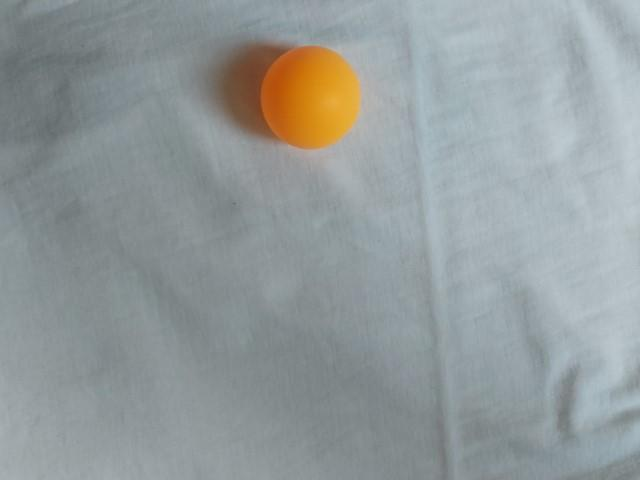oball: (270, 326, 387, 441)
